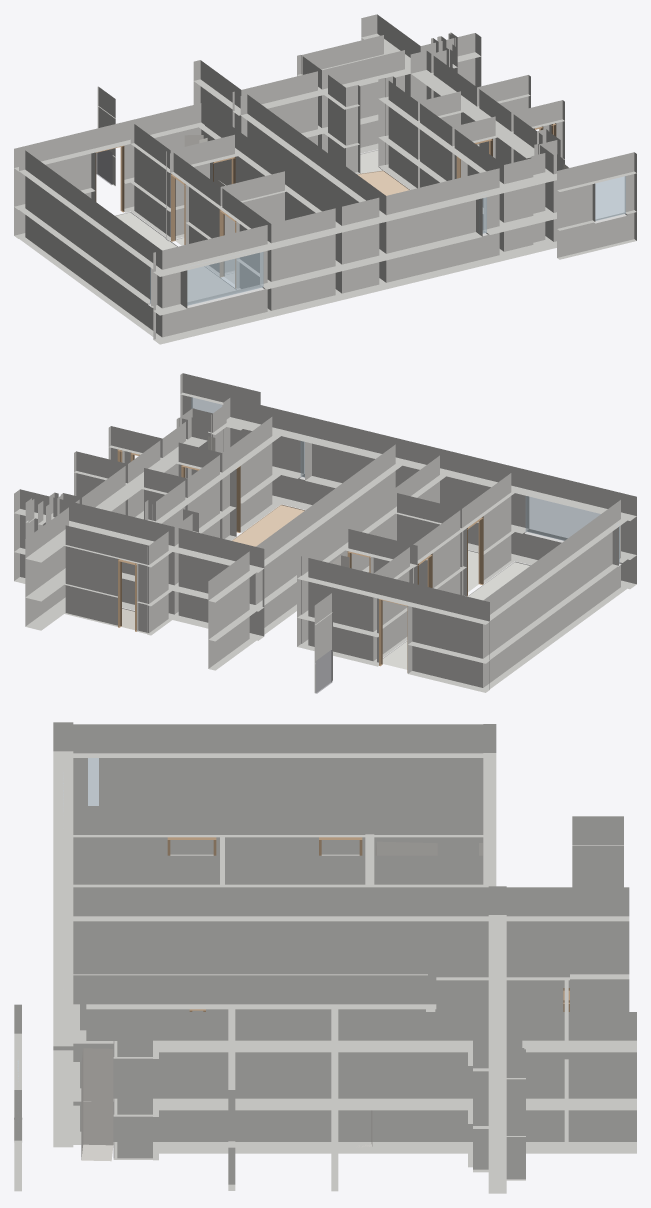
3 views of the same model, one above another, from view 1: azimuth 30°, elevation 25°; view 2: azimuth 150°, elevation 25°; view 3: azimuth 270°, elevation 25° (orthographic). The views are drawn at different scales.
Parts seen in each view (by area): view 1: walls, window_6, floor_4_Undefined, window_8, floor_1_Living_Room, railings, furniture_2_closet, door_1; view 2: walls, window_6, floor_4_Undefined, floor_1_Living_Room, railings, door_2; view 3: walls, furniture_5_closet, furniture_3_closet.
Part boxes in pixels (x1,y1,x2,y2): walls: (14,14,636,344); window_6: (187,249,263,305); floor_4_Undefined: (115,212,236,301); window_8: (595,176,625,220); floor_1_Living_Room: (357,170,409,195); railings: (96,150,112,185); furniture_2_closet: (199,138,231,186); door_1: (171,173,185,244); walls: (14,373,636,693); window_6: (525,496,600,540); floor_4_Undefined: (382,561,530,669); floor_1_Living_Room: (232,504,304,546); railings: (315,650,332,693); door_2: (467,516,483,596); walls: (14,722,636,1193); furniture_5_closet: (81,1048,113,1161); furniture_3_closet: (375,841,437,855).
Size of the model in its own units: 15.17 by 2.72 by 11.71.
